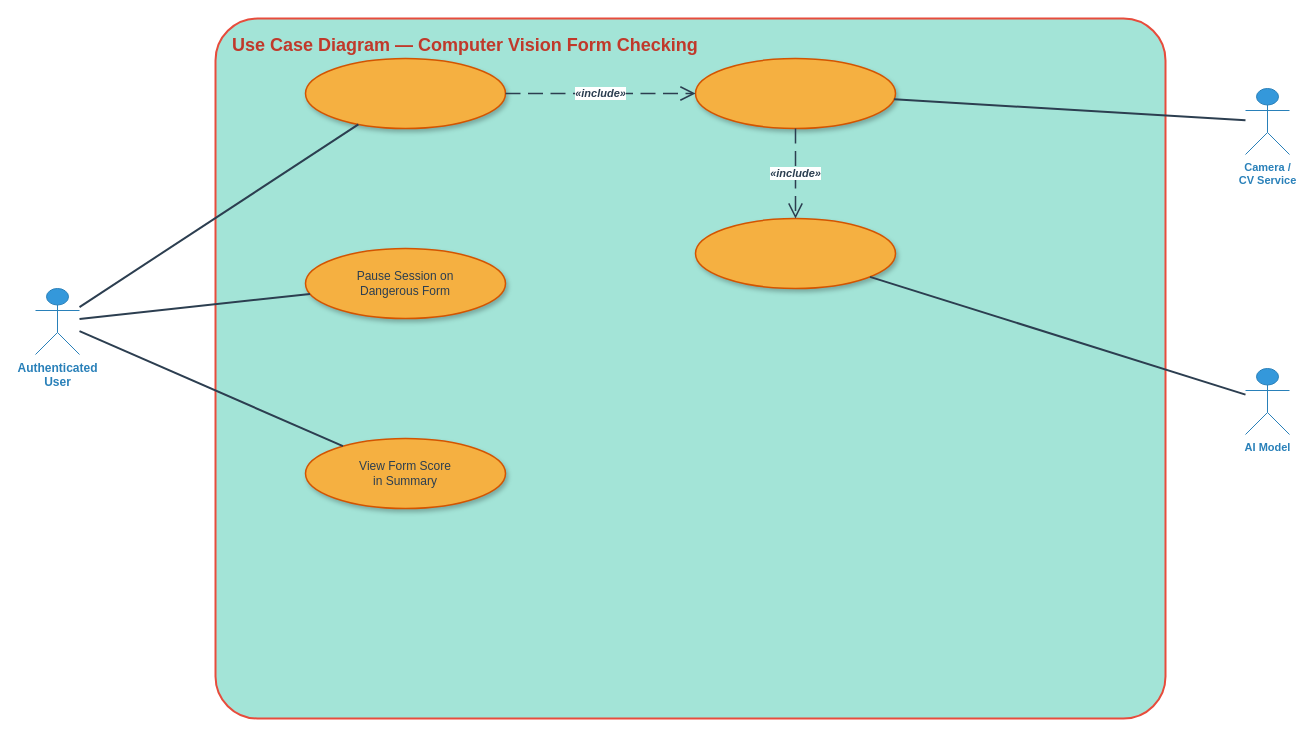
This 1313x736 diagram has some shape labels left out. The centre of each missing label's shape, as x and y in pixels:
"Analyse Exercise Posture" belongs at point 796,94.
"Display Real-Time Feedback" belongs at point 796,254.
"Enable Form Check Camera" belongs at point 406,94.
